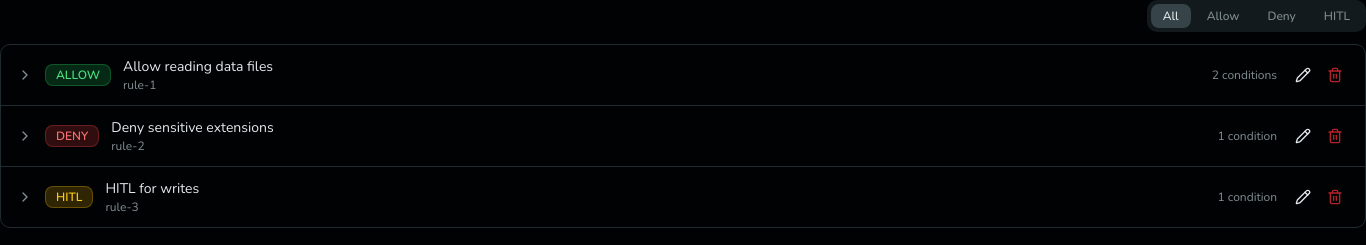
Test case: PolicyRulesList › filter tabs › clicking "Deny" tab filters to deny rules only
The width and height of the screenshot is (1366, 245).
Click the tab "Deny": coordinates (1282, 16) [1255,4,1308,28]
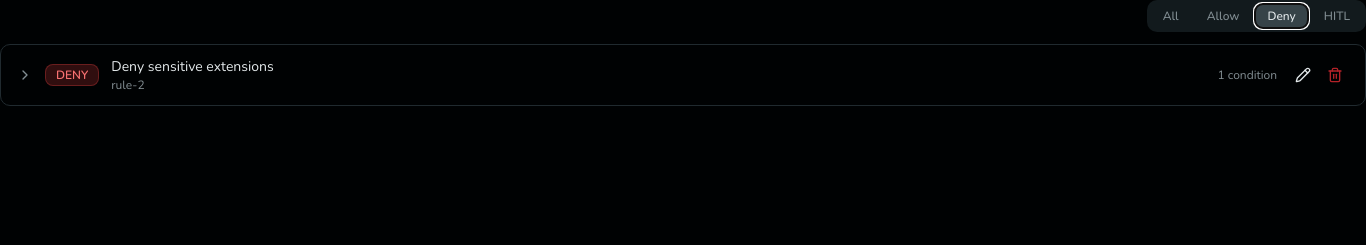
Expected: the text "Deny sensitive extensions" is shown, [111,57,274,76]
Expected: the button "Allow reading data files" is gone
